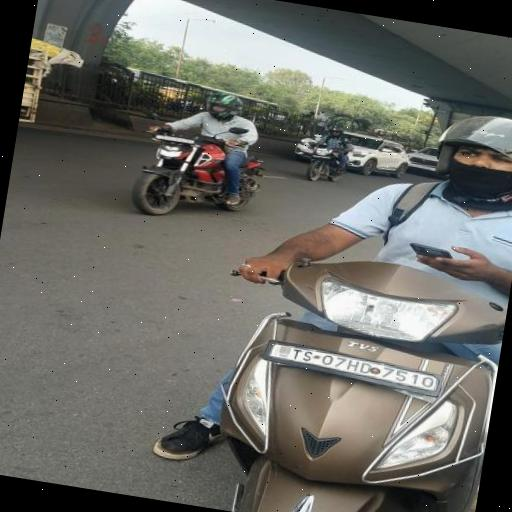helmet: (327, 76, 512, 507), (184, 58, 252, 168)
